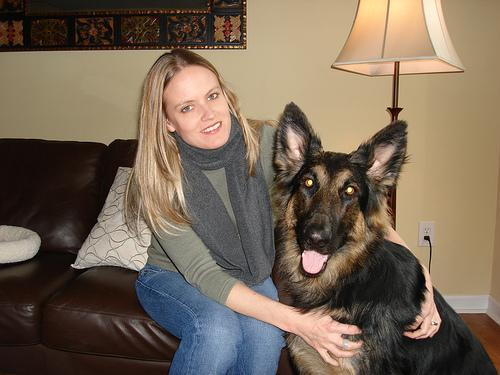German_shepherd: (268, 100, 498, 373)
